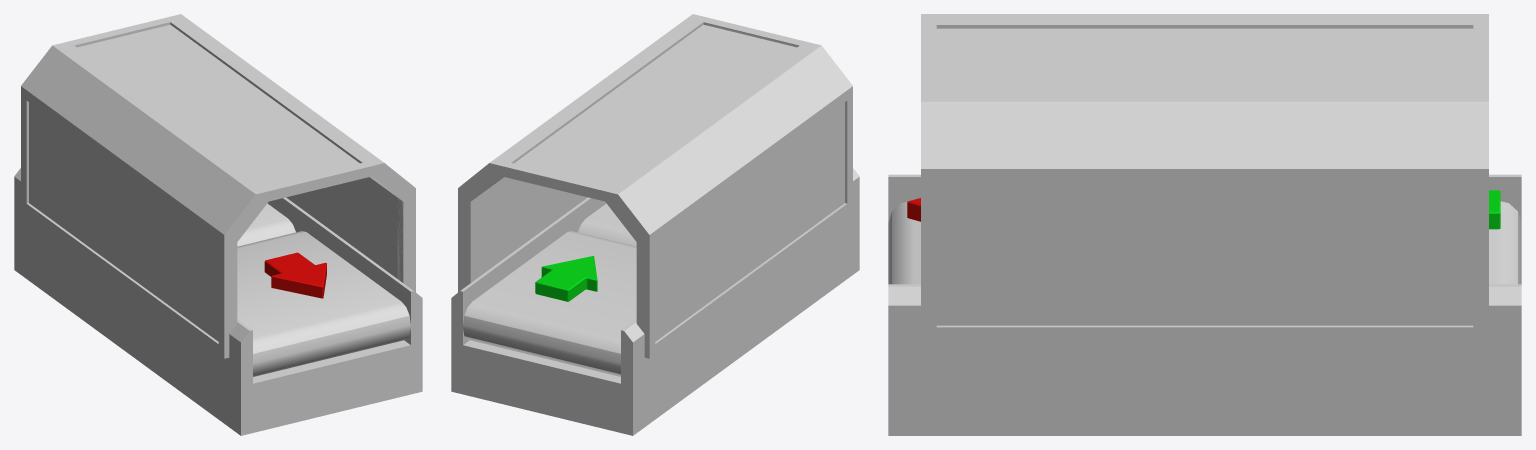
The model's file is ConveyorBeltScanner_Rendermesh.fbx.
3 views of the same model, side by side, from view 1: azimuth 30°, elevation 25°; view 2: azimuth 150°, elevation 25°; view 3: azimuth 270°, elevation 25° (orthographic). The views are drawn at different scales.
Visible parts, largest first — view 1: ConveyorBeltScanner_Rendermesh; view 2: ConveyorBeltScanner_Rendermesh; view 3: ConveyorBeltScanner_Rendermesh.
Boxes of the visible parts, x1,y1,x2,y2 form: ConveyorBeltScanner_Rendermesh: (14,14,422,435); ConveyorBeltScanner_Rendermesh: (451,14,859,435); ConveyorBeltScanner_Rendermesh: (888,14,1521,435).
Size of the model in its own units: 1.95 by 2.2 by 4.
